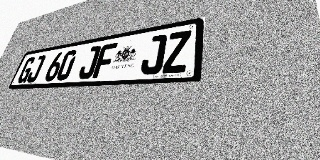0: (55, 49, 78, 81)
6: (43, 51, 66, 82)
F: (92, 42, 118, 78)
G: (16, 56, 37, 83)
J: (139, 34, 168, 75), (77, 45, 102, 79), (25, 55, 46, 83)
Z: (162, 30, 191, 74)
